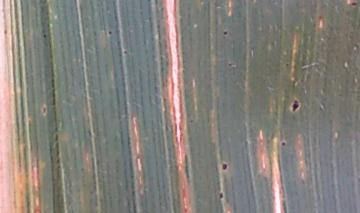tarspot: (288, 97, 302, 114), (277, 138, 289, 149), (219, 159, 229, 171), (39, 100, 47, 115), (215, 189, 225, 200), (220, 27, 230, 38), (105, 26, 114, 37), (350, 1, 360, 9), (121, 47, 129, 56), (41, 31, 48, 40), (227, 60, 234, 68)
